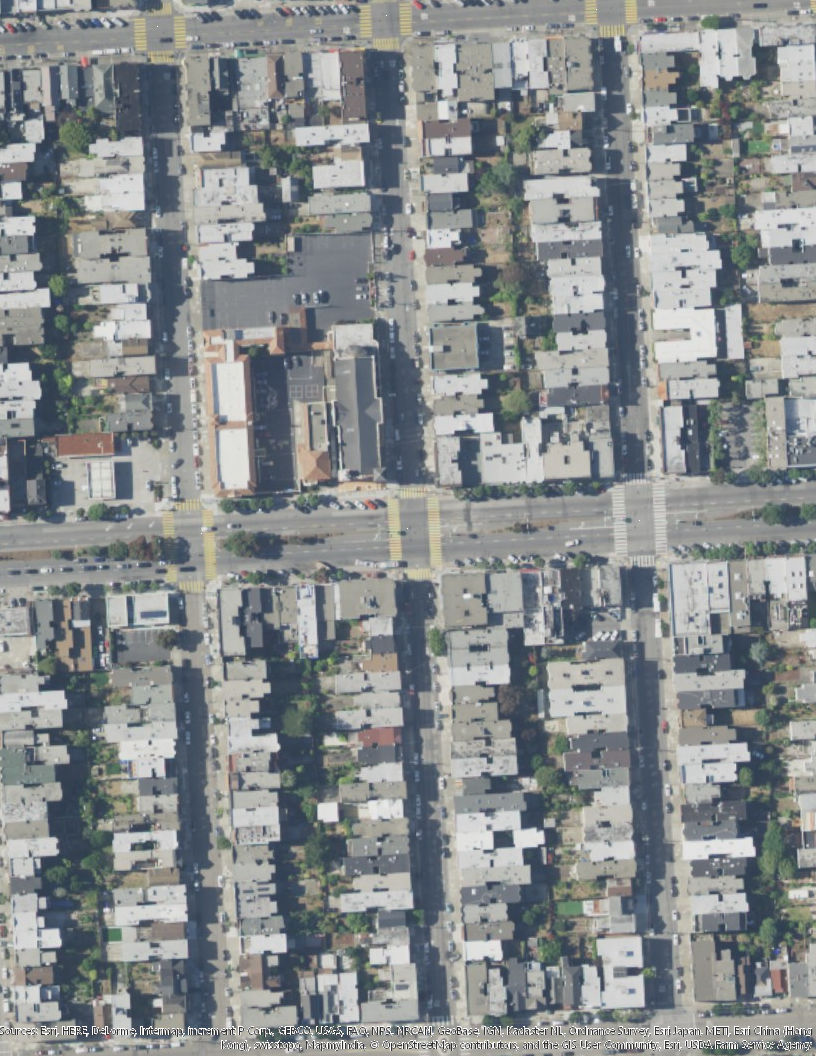zebracross: (651, 484, 668, 557), (426, 499, 444, 566), (385, 501, 404, 560), (612, 486, 628, 555), (202, 510, 217, 579), (397, 484, 431, 502), (172, 15, 188, 49), (132, 17, 148, 49), (359, 6, 374, 40), (398, 2, 413, 36), (622, 472, 653, 486), (144, 3, 174, 17), (147, 49, 175, 64), (373, 37, 399, 53), (162, 511, 177, 537), (404, 568, 434, 581), (624, 1, 639, 24), (584, 1, 598, 25), (631, 555, 656, 568), (600, 25, 626, 37), (175, 501, 202, 512), (178, 582, 204, 593), (165, 564, 178, 585), (432, 1016, 458, 1026)
